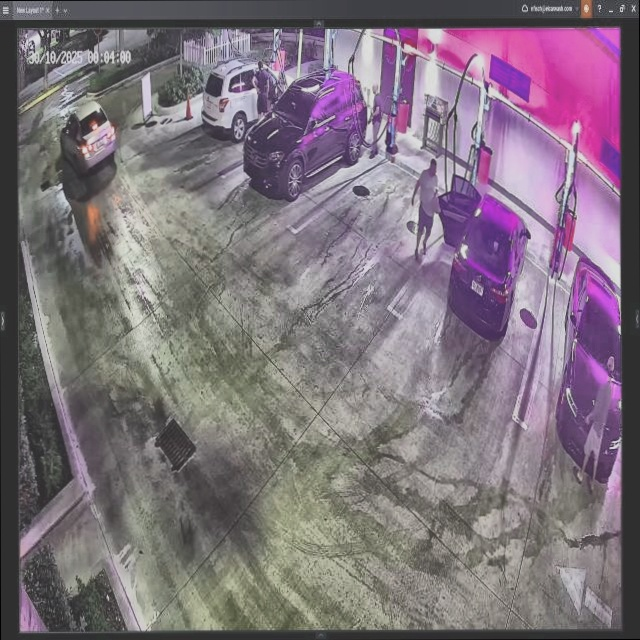Car: (245, 73, 369, 199), (438, 171, 531, 334)
